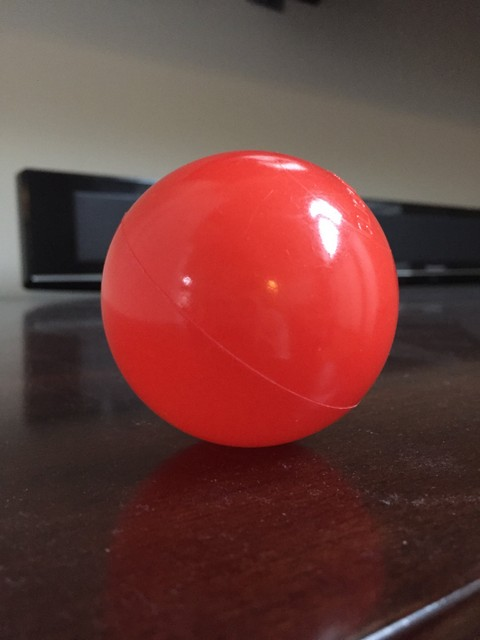Ball: (100, 151, 402, 444)
